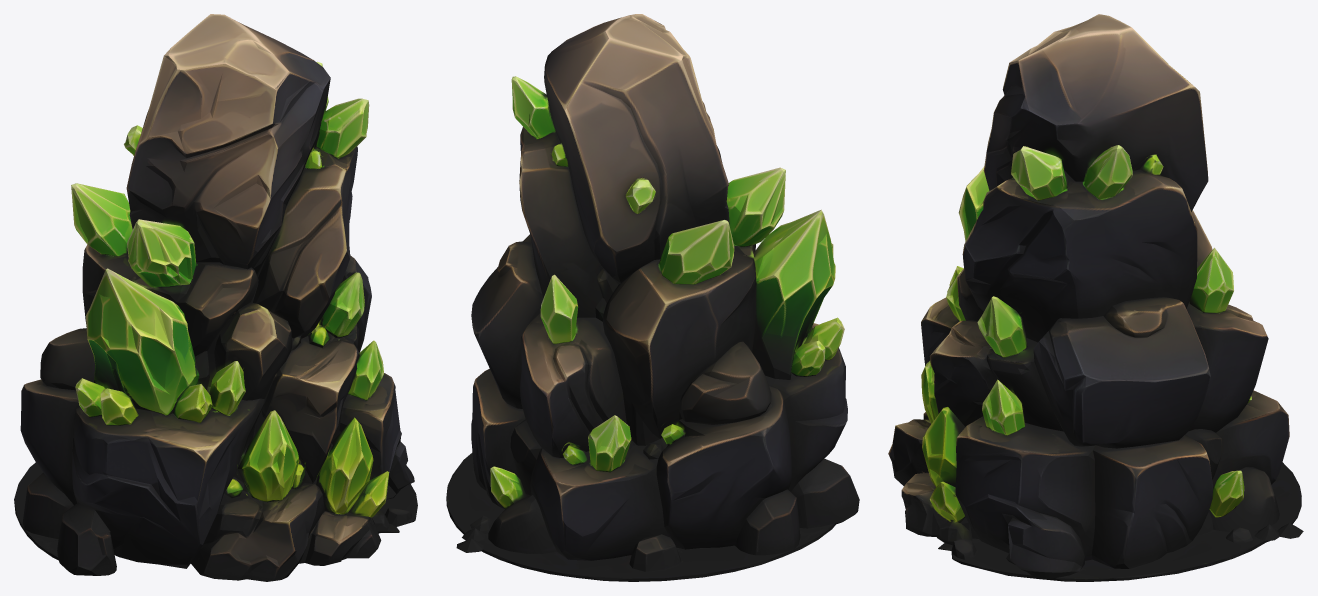
Rendered from SM_Ore16.fbx.
3 views of the same model, side by side, from view 1: azimuth 30°, elevation 25°; view 2: azimuth 150°, elevation 25°; view 3: azimuth 270°, elevation 25° (orthographic).
Visible parts, largest first — view 1: Ore16; view 2: Ore16; view 3: Ore16.
Part boxes in pixels (x1,y1,x2,y2): Ore16: (14, 14, 417, 581); Ore16: (446, 14, 859, 581); Ore16: (888, 14, 1303, 581).
Size of the model in its own units: 154 by 199 by 156.
Materials: 1 (1 with a texture image).
